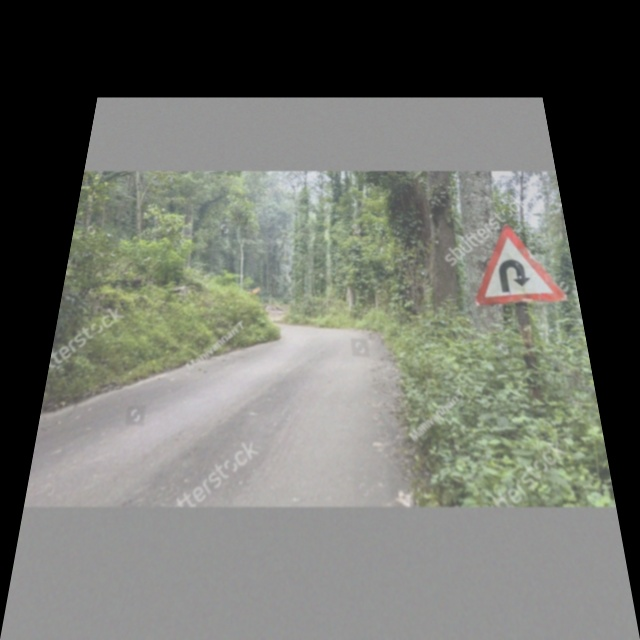Right_Hair_Pin_Bend: (469, 227, 565, 304)
